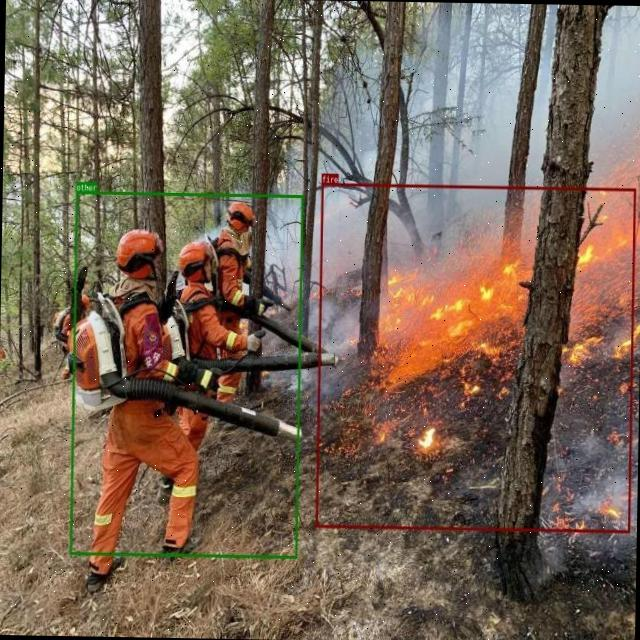fire: (314, 183, 636, 532)
